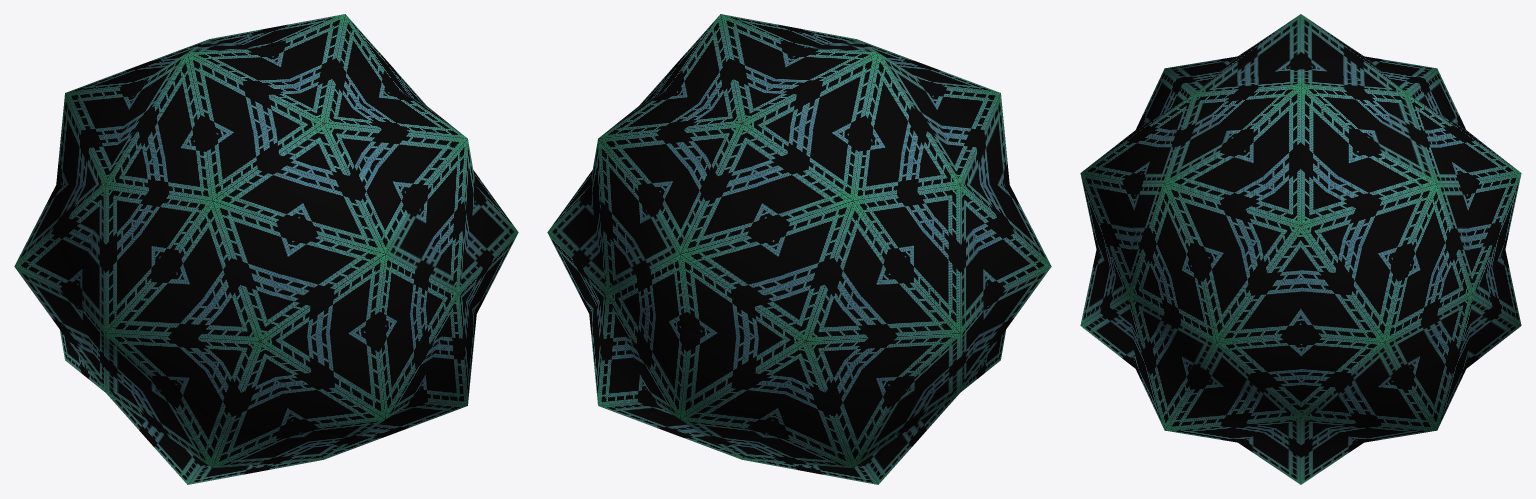
File: 22SmallIcosacronicHexecontahedron.gltf
3 views of the same model, side by side, from view 1: azimuth 30°, elevation 25°; view 2: azimuth 150°, elevation 25°; view 3: azimuth 270°, elevation 25° (orthographic). The views are drawn at different scales.
Parts seen in each view (by area): view 1: SmallIcosacronicHexecontahedron9; view 2: SmallIcosacronicHexecontahedron9; view 3: SmallIcosacronicHexecontahedron9.
Part boxes in pixels (bbox=[...]): SmallIcosacronicHexecontahedron9: bbox=[14, 14, 518, 484]; SmallIcosacronicHexecontahedron9: bbox=[547, 14, 1051, 484]; SmallIcosacronicHexecontahedron9: bbox=[1080, 14, 1521, 484].
Bounding box in the file's own units: 3.62 × 3.62 × 3.62.
1 material, 1 textured.
